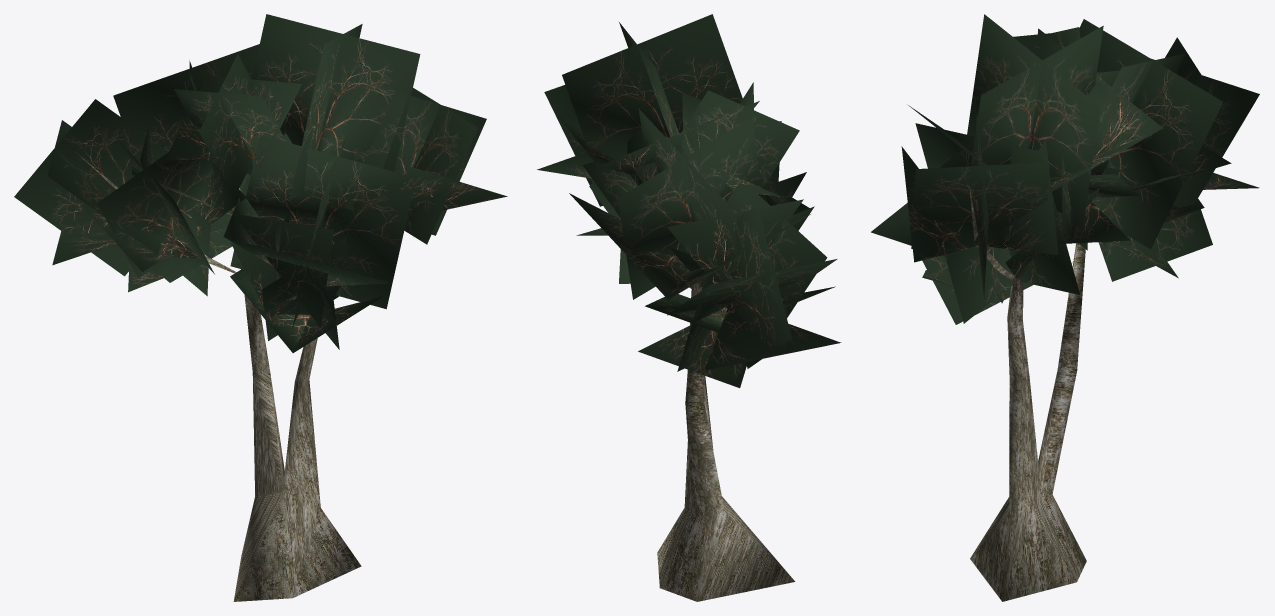
File: decd_hollytreebranches_l1.fbx
3 views of the same model, side by side, from view 1: azimuth 30°, elevation 25°; view 2: azimuth 150°, elevation 25°; view 3: azimuth 270°, elevation 25° (orthographic). The views are drawn at different scales.
Visible parts, largest first — view 1: mesh_node; view 2: mesh_node; view 3: mesh_node.
Part boxes in pixels (x1=…): mesh_node: x1=14, y1=14, x2=507, y2=601; mesh_node: x1=537, y1=14, x2=841, y2=601; mesh_node: x1=871, y1=14, x2=1259, y2=601.
Size of the model in its own units: 13.1 by 18.47 by 11.57.
